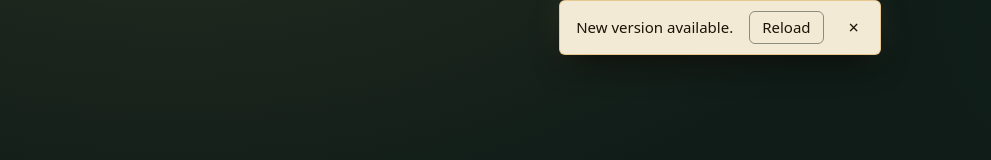
a new version of the site › reloadWaitsForUnsentChanges
Later steps or results of the test are not shown.
Step 1. Click the button "Reload" → (786, 27), box x1=749 y1=11 x2=824 y2=44
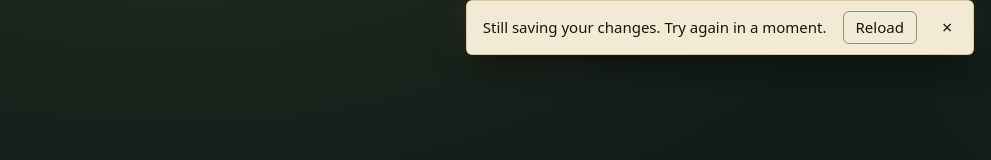
Expected: the text "Still saving your changes. Try again in a moment." is shown, x1=483 y1=16 x2=827 y2=38
